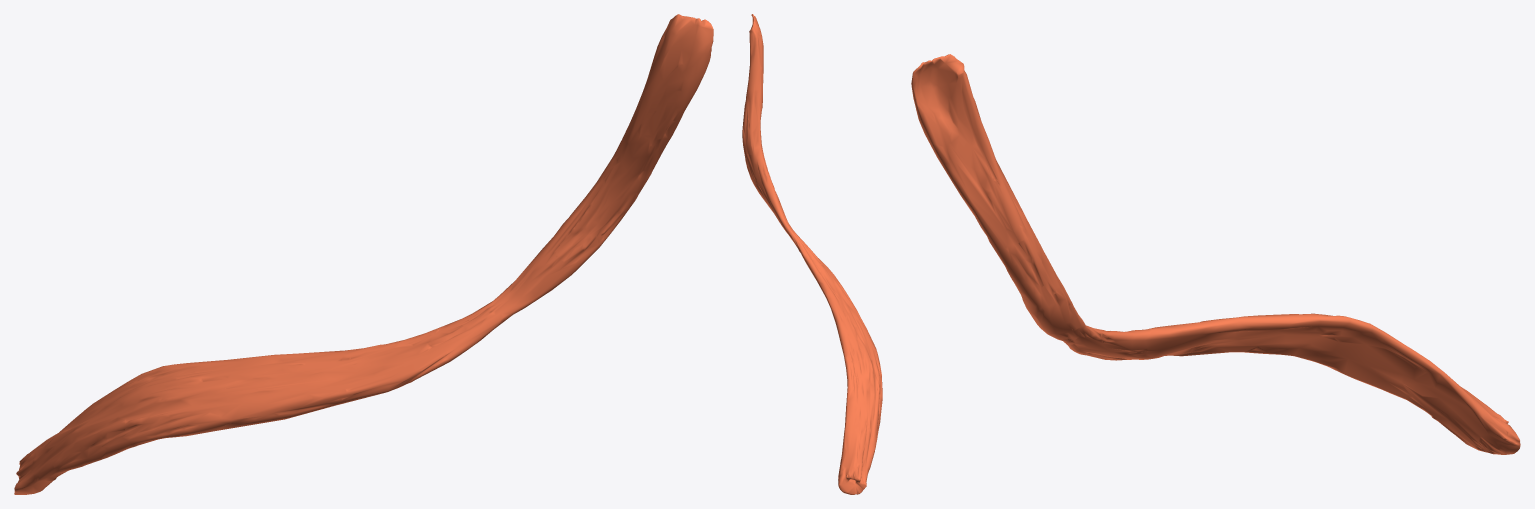
Rendered from Omohyoid_muscle.r_Generated_Mesh_From_X3D.319.glb.
3 renders of one model, left to right at view 1: azimuth 30°, elevation 25°; view 2: azimuth 150°, elevation 25°; view 3: azimuth 270°, elevation 25°, orthographic. The views are drawn at different scales.
Visible parts, largest first — view 1: Omohyoid_muscle.r_Generated_Mesh_From_X3D.319; view 2: Omohyoid_muscle.r_Generated_Mesh_From_X3D.319; view 3: Omohyoid_muscle.r_Generated_Mesh_From_X3D.319.
Part boxes in pixels (box(x1,y1,x2,y2)): Omohyoid_muscle.r_Generated_Mesh_From_X3D.319: box(14, 14, 713, 494); Omohyoid_muscle.r_Generated_Mesh_From_X3D.319: box(742, 14, 882, 494); Omohyoid_muscle.r_Generated_Mesh_From_X3D.319: box(911, 54, 1520, 454).
Size of the model in its own units: 0.0908 by 0.1066 by 0.0935.
